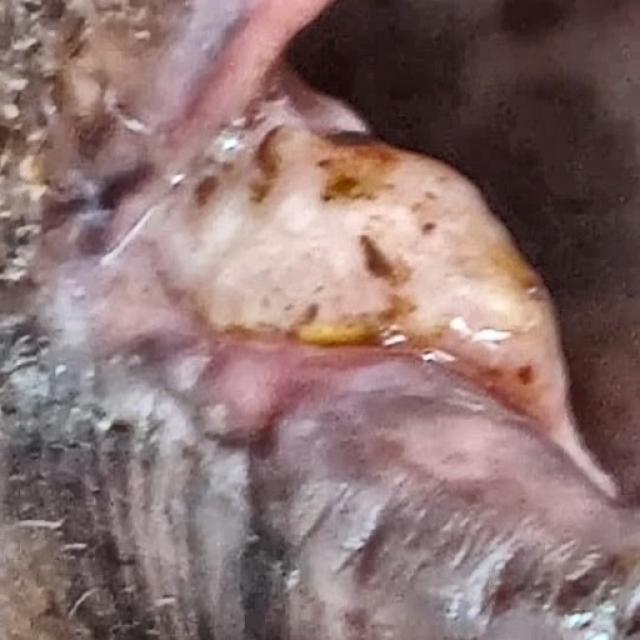cancer-detection: (61, 59, 622, 492)
processing_area: (30, 0, 618, 588)
